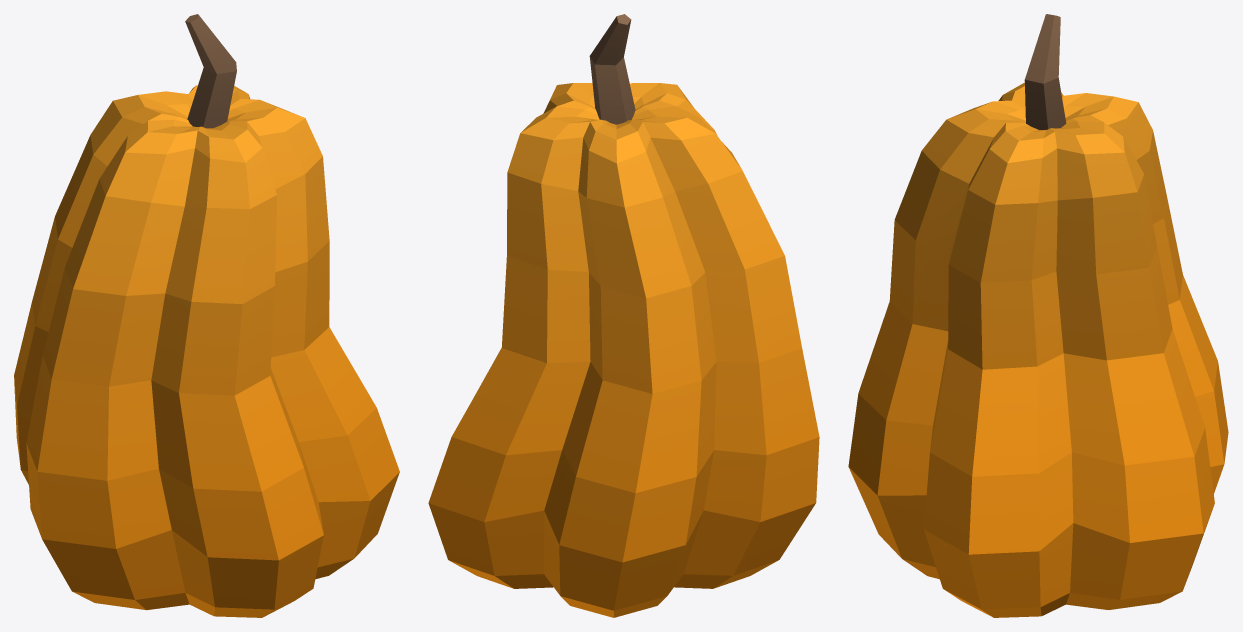
Rendered from pumpkin-2-orange.glb.
3 views of the same model, side by side, from view 1: azimuth 30°, elevation 25°; view 2: azimuth 150°, elevation 25°; view 3: azimuth 270°, elevation 25° (orthographic).
Visible parts, largest first — view 1: pumpkin 2 orange; view 2: pumpkin 2 orange; view 3: pumpkin 2 orange.
Boxes of the visible parts, x1=… form: pumpkin 2 orange: x1=14, y1=14, x2=399, y2=617; pumpkin 2 orange: x1=428, y1=14, x2=819, y2=617; pumpkin 2 orange: x1=848, y1=14, x2=1228, y2=617.
Bounding box in the file's own units: 0.4535 × 0.7077 × 0.4403.
Materials: 1 (1 with a texture image).
